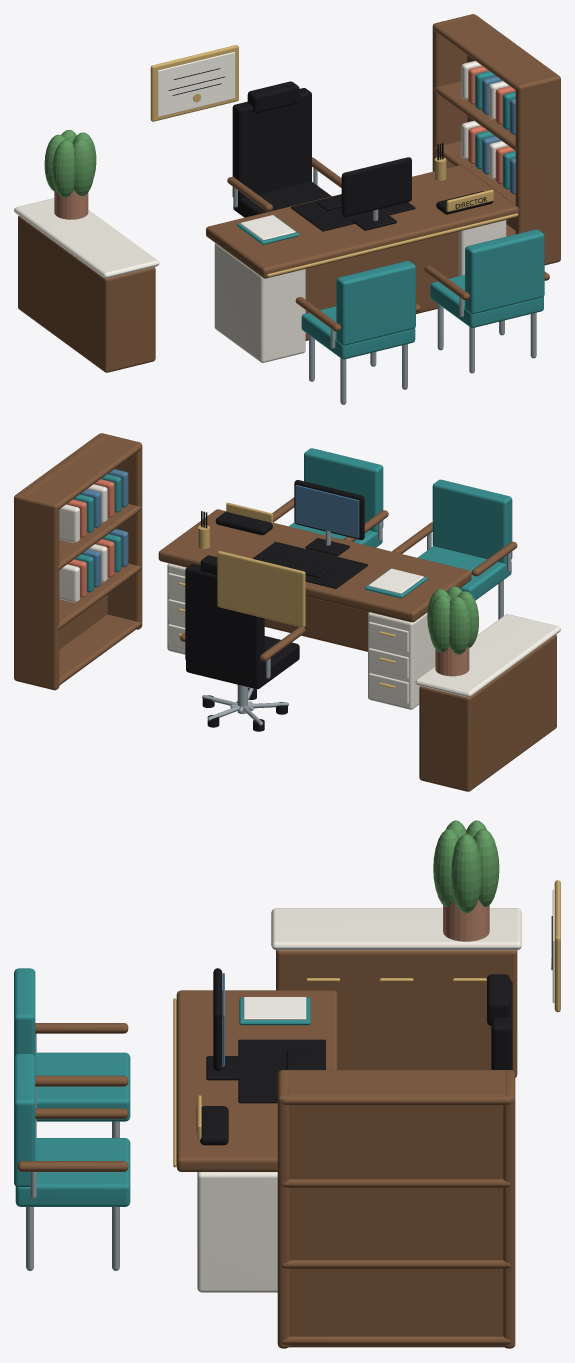
File: BossOffice_Furniture.fbx
3 views of the same model, one above another, from view 1: azimuth 30°, elevation 25°; view 2: azimuth 150°, elevation 25°; view 3: azimuth 270°, elevation 25° (orthographic). The views are drawn at different scales.
Parts seen in each view (by area): view 1: Storage credenza, Walnut executive desktop, Ivory drawer pedestal, Bookcase side, Executive chair back, Visitor chair two back, Visitor chair one back, Desk modesty panel, Credenza ivory top, Certificate paper, Bookcase shelf.003, Monitor housing.002 (+18 smaller); view 2: Storage credenza, Walnut executive desktop, Bookcase side.001, Executive chair back, Visitor chair one back, Certificate gold frame, Credenza ivory top, Bookcase shelf.003, Bookcase side, Visitor chair two back, Desk modesty panel, Ivory drawer pedestal (+27 smaller); view 3: Bookcase back, Storage credenza, Walnut executive desktop, Ivory drawer pedestal.001, Credenza ivory top, Bookcase shelf.003, Visitor chair two seat, Visitor chair one seat, Desk leather blotter, Bookcase side, Bookcase side.001, Visitor chair two back (+21 smaller).
Boxes of the visible parts, bbox=[...] form: Storage credenza: bbox=[18, 216, 155, 372]; Walnut executive desktop: bbox=[206, 165, 518, 278]; Ivory drawer pedestal: bbox=[214, 243, 305, 362]; Bookcase side: bbox=[515, 75, 560, 265]; Executive chair back: bbox=[232, 88, 311, 199]; Visitor chair two back: bbox=[465, 229, 544, 314]; Visitor chair one back: bbox=[336, 261, 415, 345]; Desk modesty panel: bbox=[305, 231, 458, 340]; Credenza ivory top: bbox=[14, 198, 159, 278]; Certificate paper: bbox=[157, 52, 235, 116]; Bookcase shelf.003: bbox=[433, 15, 559, 90]; Monitor housing.002: bbox=[341, 157, 411, 217]; Storage credenza: bbox=[419, 635, 556, 791]; Walnut executive desktop: bbox=[158, 509, 471, 622]; Bookcase side.001: bbox=[14, 494, 59, 690]; Executive chair back: bbox=[185, 564, 264, 678]; Visitor chair one back: bbox=[432, 479, 512, 563]; Certificate gold frame: bbox=[217, 551, 305, 627]; Credenza ivory top: bbox=[415, 614, 560, 697]; Bookcase shelf.003: bbox=[15, 434, 141, 509]; Bookcase side: bbox=[99, 433, 142, 629]; Visitor chair two back: bbox=[304, 448, 383, 532]; Desk modesty panel: bbox=[264, 597, 368, 651]; Ivory drawer pedestal: bbox=[368, 612, 435, 709]; Bookcase back: bbox=[287, 1091, 505, 1347]; Storage credenza: bbox=[276, 950, 517, 1077]; Walnut executive desktop: bbox=[176, 990, 337, 1171]; Ivory drawer pedestal.001: bbox=[197, 1172, 277, 1292]; Credenza ivory top: bbox=[271, 908, 521, 950]; Bookcase shelf.003: bbox=[282, 1070, 510, 1105]; Visitor chair two seat: bbox=[15, 1138, 130, 1206]; Visitor chair one seat: bbox=[35, 1052, 130, 1121]; Desk leather blotter: bbox=[238, 1039, 325, 1103]; Bookcase side: bbox=[277, 1070, 289, 1348]; Bookcase side.001: bbox=[503, 1070, 515, 1348]; Visitor chair two back: bbox=[14, 1054, 35, 1186].
Bounding box in the file's own units: 404 × 164 × 306.
